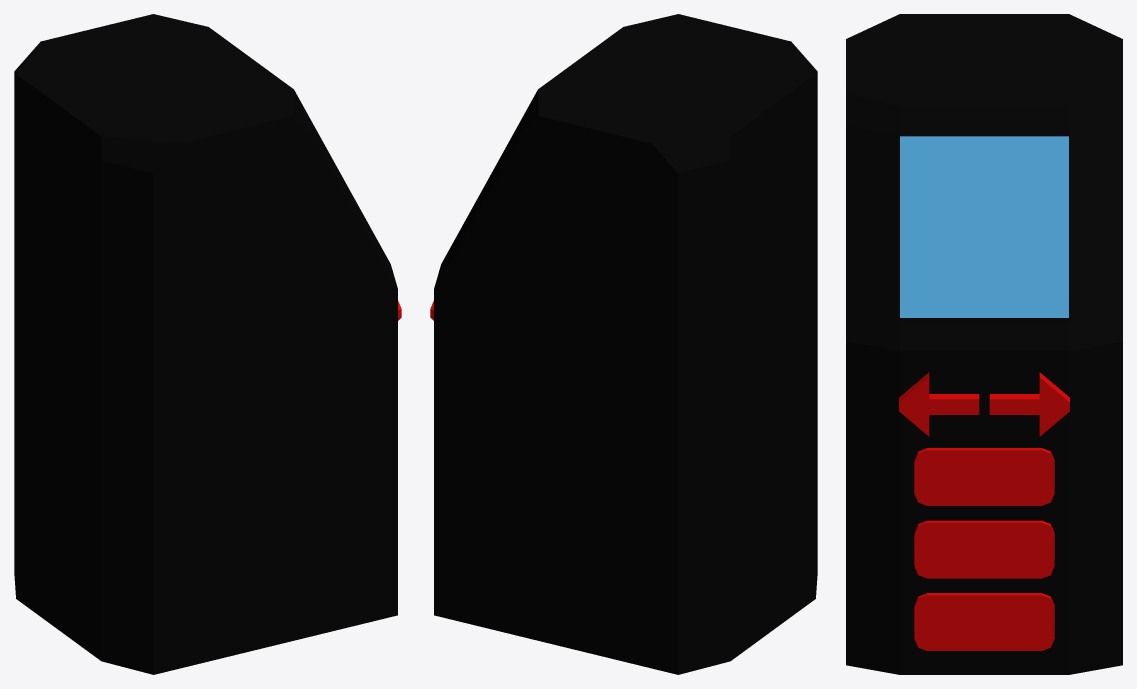
File: ATM.fbx
The picture shows the model from 3 angles, left to right: view 1: azimuth 30°, elevation 25°; view 2: azimuth 150°, elevation 25°; view 3: azimuth 270°, elevation 25°; orthographic projection.
Parts seen in each view (by area): view 1: Cube.001; view 2: Cube.001; view 3: Cube.001, Cube.003, Cube.004, Cube, Cube.002, Cube.005.
Part boxes in pixels (box(x1,y1,x2,y2)): Cube.001: box(14, 14, 397, 674); Cube.001: box(434, 14, 817, 674); Cube.001: box(846, 14, 1122, 674); Cube.003: box(914, 520, 1054, 578); Cube.004: box(914, 593, 1054, 650); Cube: box(914, 448, 1054, 505); Cube.002: box(899, 372, 979, 436); Cube.005: box(989, 372, 1069, 436).
Size of the model in its own units: 2234 by 3737 by 1799.
